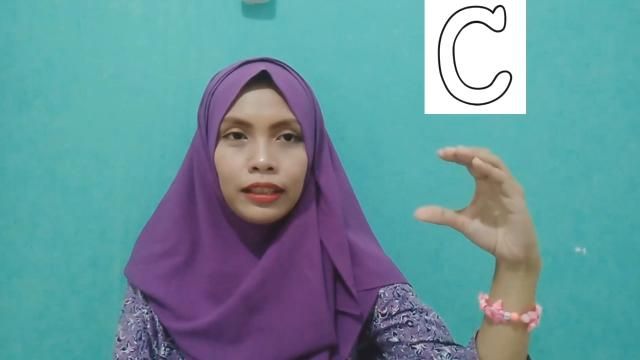C: (412, 146, 538, 270)
